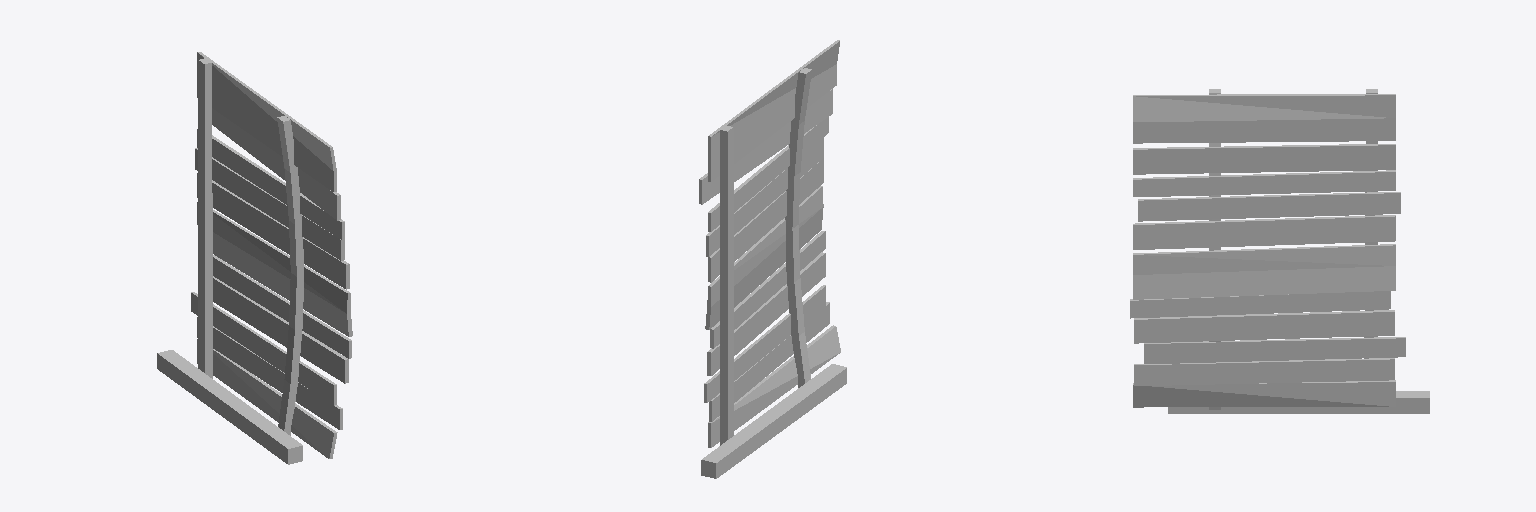
The model's file is fence.obj.
3 views of the same model, side by side, from view 1: azimuth 30°, elevation 25°; view 2: azimuth 150°, elevation 25°; view 3: azimuth 270°, elevation 25° (orthographic).
Visible parts, largest first — view 1: wood_fance_m2_t1; view 2: wood_fance_m2_t1; view 3: wood_fance_m2_t1.
Part boxes in pixels (left/top/right/bottom): wood_fance_m2_t1: left=157, top=52, right=352, bottom=464; wood_fance_m2_t1: left=699, top=40, right=846, bottom=478; wood_fance_m2_t1: left=1130, top=89, right=1429, bottom=413.
Bounding box in the file's own units: 31.26 × 205 × 172.